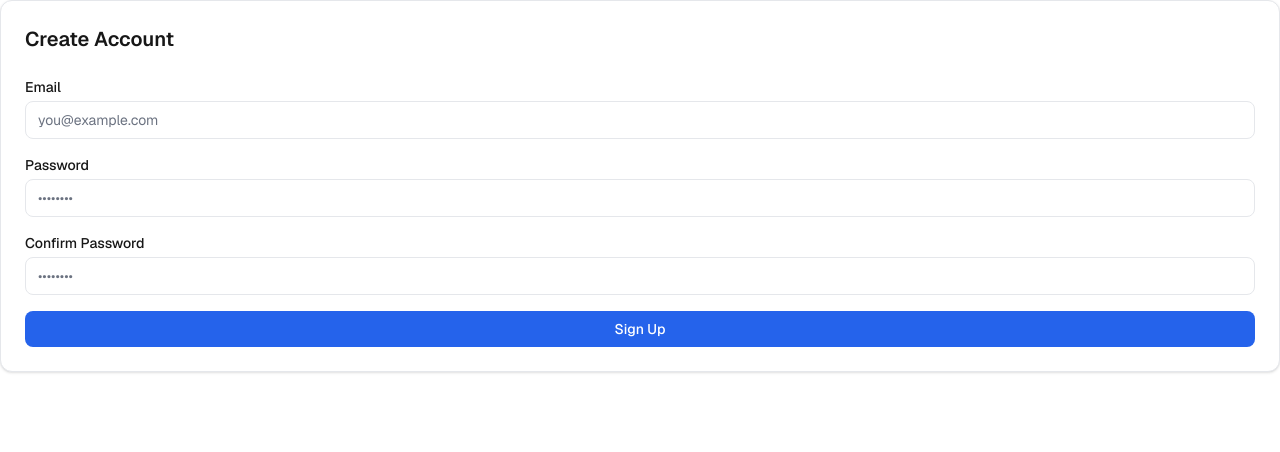
Test: SignupForm › shows validation error when password is shorter than 8 characters
This screenshot has width=1280, height=452.
Type "user@example.com" into the field with placeholder "you@example.com" at (640, 120), box [25,101,1255,139]
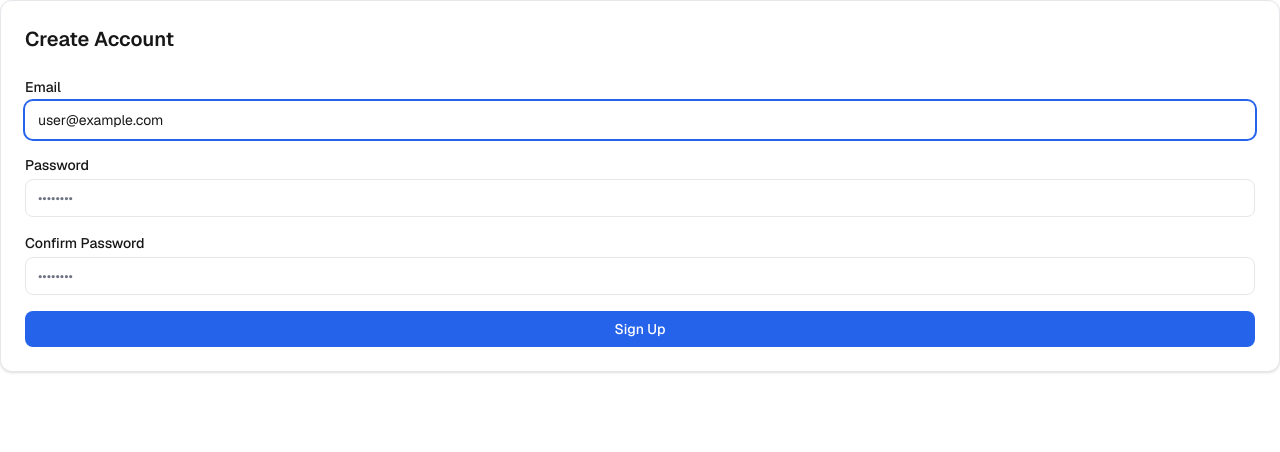
Type "1234567" into the 1st password field with placeholder "••••••••" at (640, 198), box [25,179,1255,217]
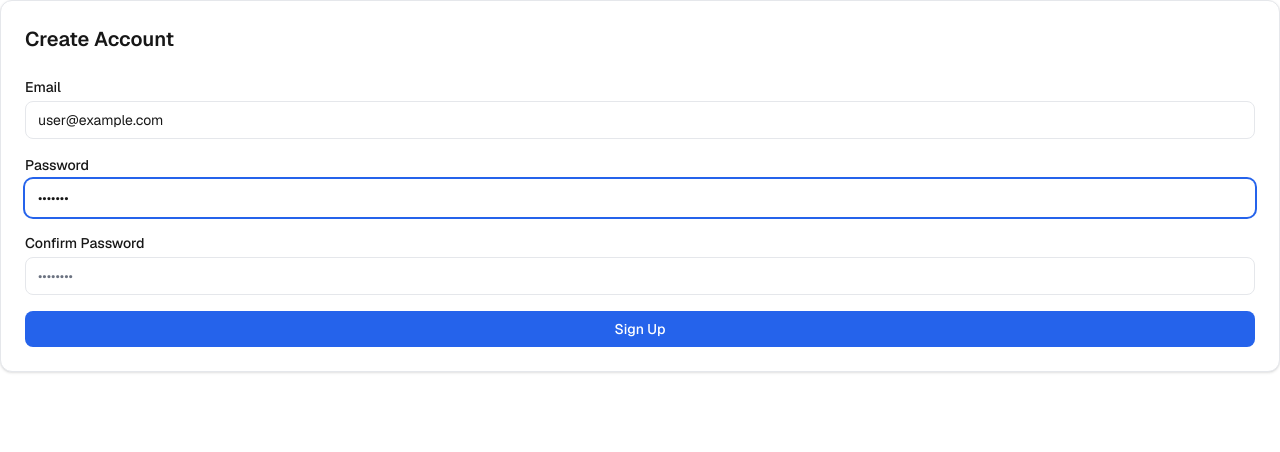
Type "1234567" into the password field with placeholder "••••••••" at (640, 276), box [25,257,1255,295]
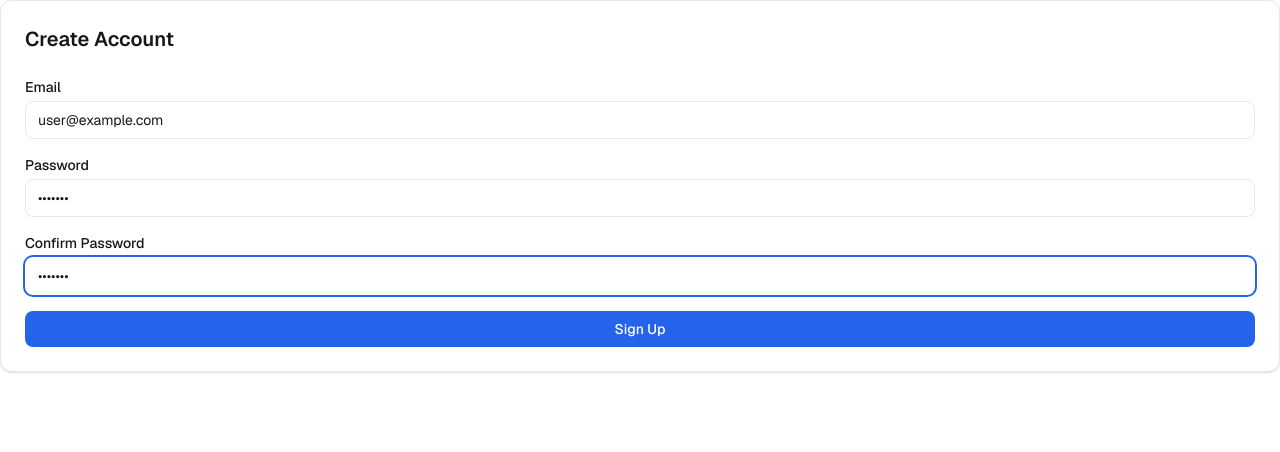
Click the button "Sign Up" at (640, 329), box [25,311,1255,347]
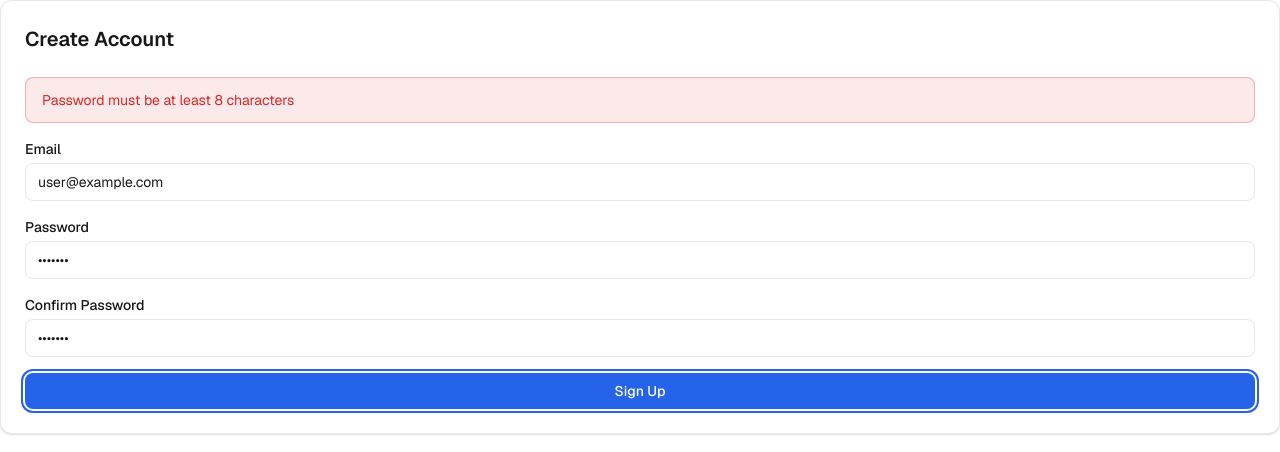
Result: the text "Password must be at least 8 characters" is shown at [25,77,1255,123]
